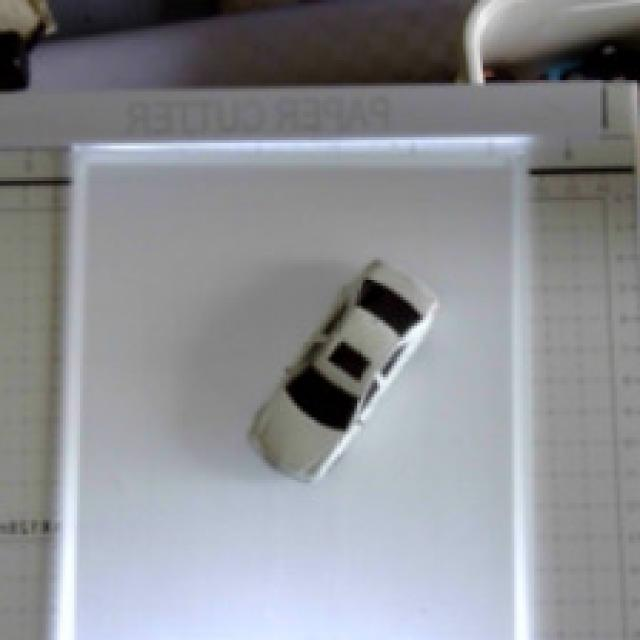Grey Car: (207, 237, 473, 518)
